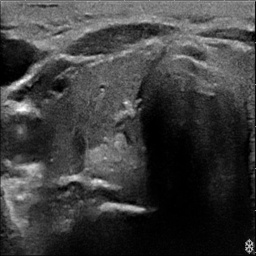mass: (53, 124, 86, 173)
